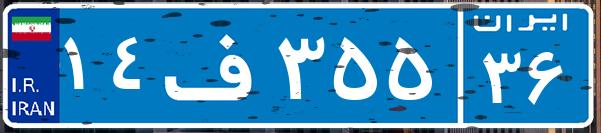1: (57, 26, 110, 107)
3: (273, 28, 330, 110), (475, 38, 525, 113)
4: (110, 28, 158, 105)
5: (385, 28, 445, 110), (330, 28, 385, 110)
6: (525, 38, 570, 115)
ف: (158, 15, 273, 115)
